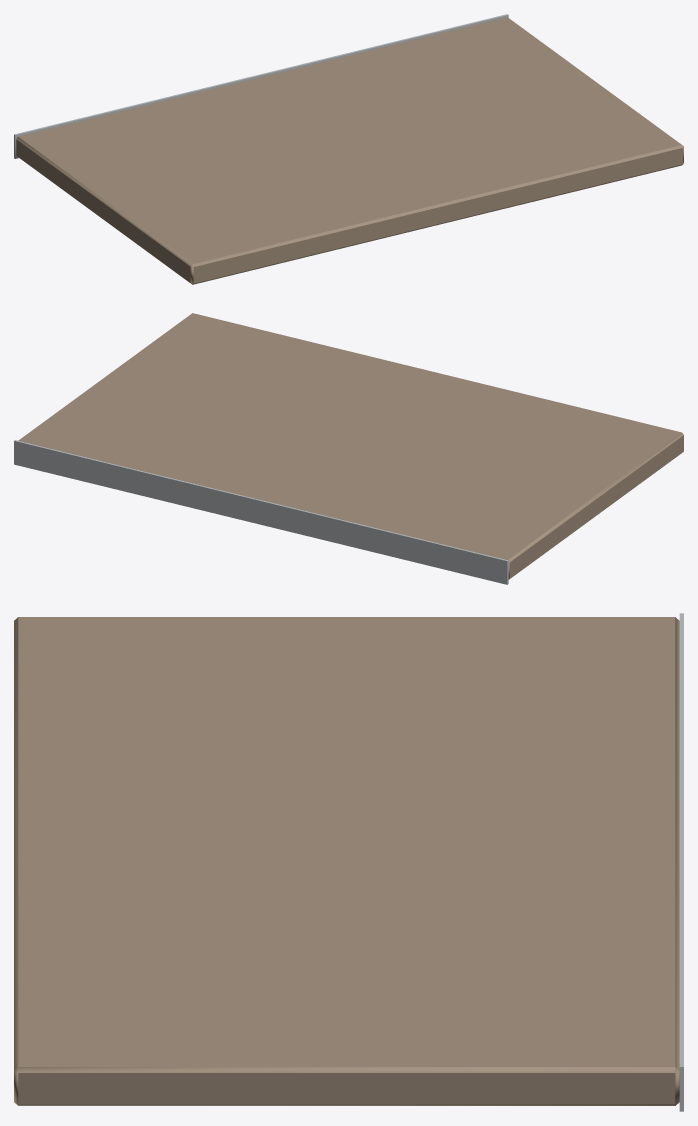
Rendered from counter_top.glb.
The picture shows the model from 3 angles, top to bottom: view 1: azimuth 30°, elevation 25°; view 2: azimuth 150°, elevation 25°; view 3: azimuth 270°, elevation 25°; orthographic projection. The views are drawn at different scales.
Visible parts, largest first — view 1: static; view 2: static; view 3: static.
Boxes of the visible parts, x1,y1,x2,y2 form: static: [14, 14, 683, 284]; static: [14, 313, 683, 584]; static: [14, 613, 683, 1111].
Bounding box in the file's own units: 1 × 0.046 × 0.624.
